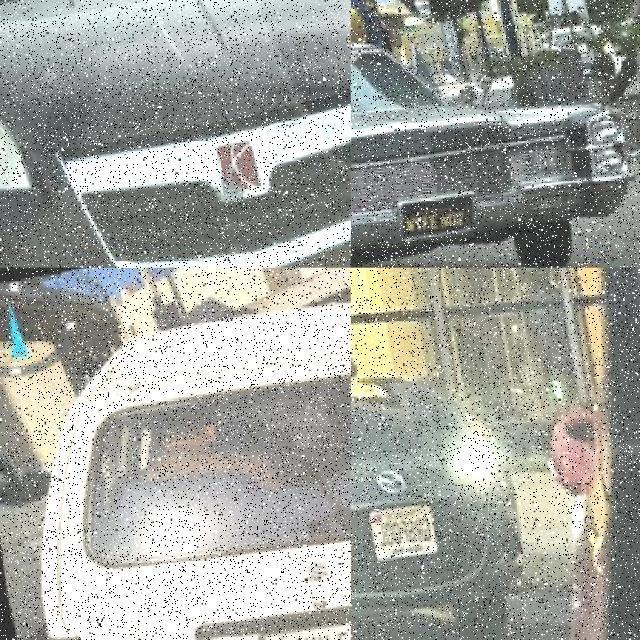LicensePlate: (357, 506, 427, 564), (251, 612, 351, 640), (389, 203, 455, 240)
